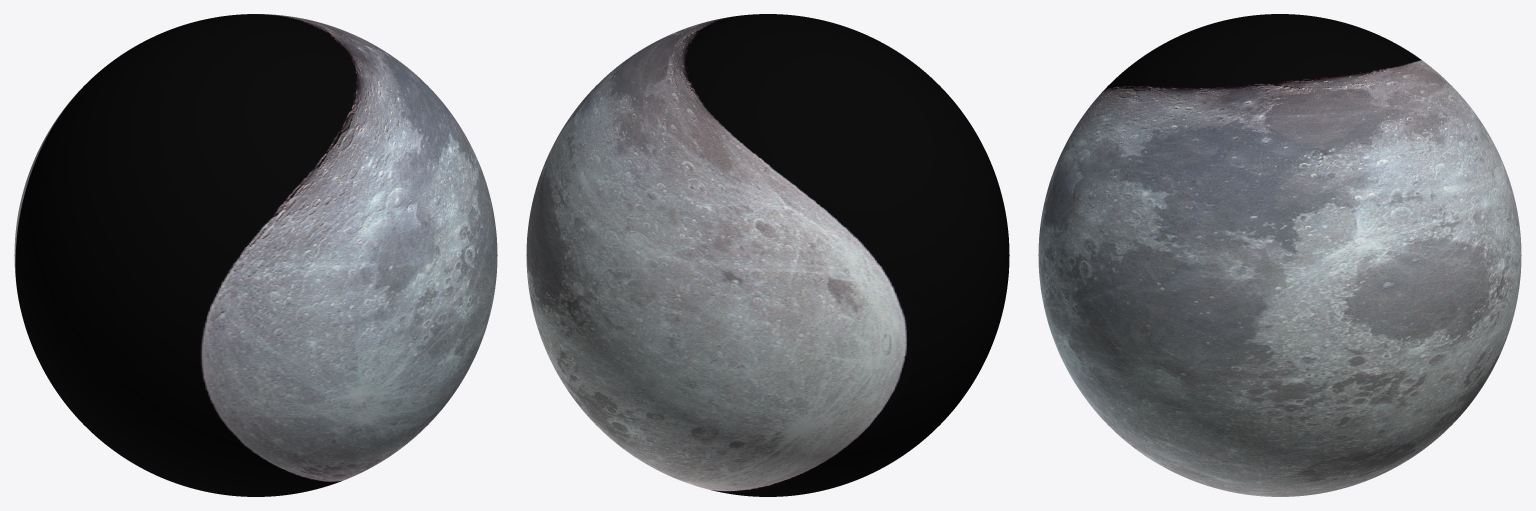
The model's file is moon.glb.
3 views of the same model, side by side, from view 1: azimuth 30°, elevation 25°; view 2: azimuth 150°, elevation 25°; view 3: azimuth 270°, elevation 25° (orthographic).
Visible parts, largest first — view 1: Moon; view 2: Moon; view 3: Moon.
Part boxes in pixels (x1=…): Moon: x1=14, y1=14, x2=497, y2=496; Moon: x1=526, y1=14, x2=1009, y2=496; Moon: x1=1038, y1=14, x2=1521, y2=496.
Bounding box in the file's own units: 2 × 2 × 2.
1 material, 1 textured.
